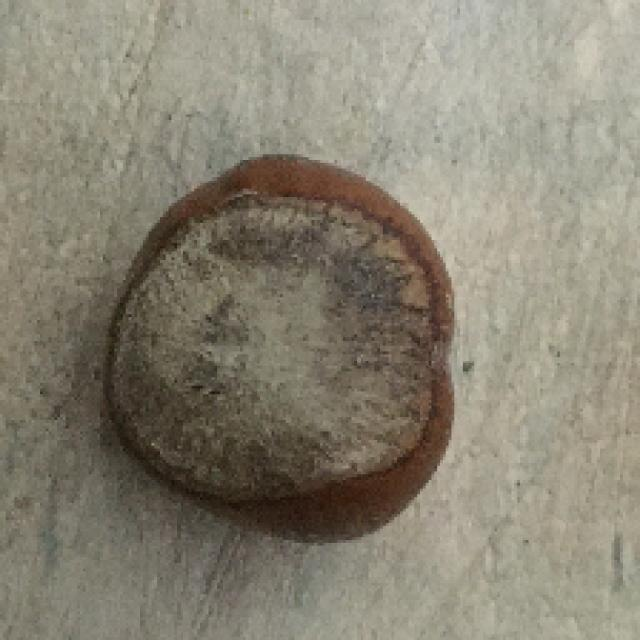qualityHazelnut: (97, 150, 463, 557)
